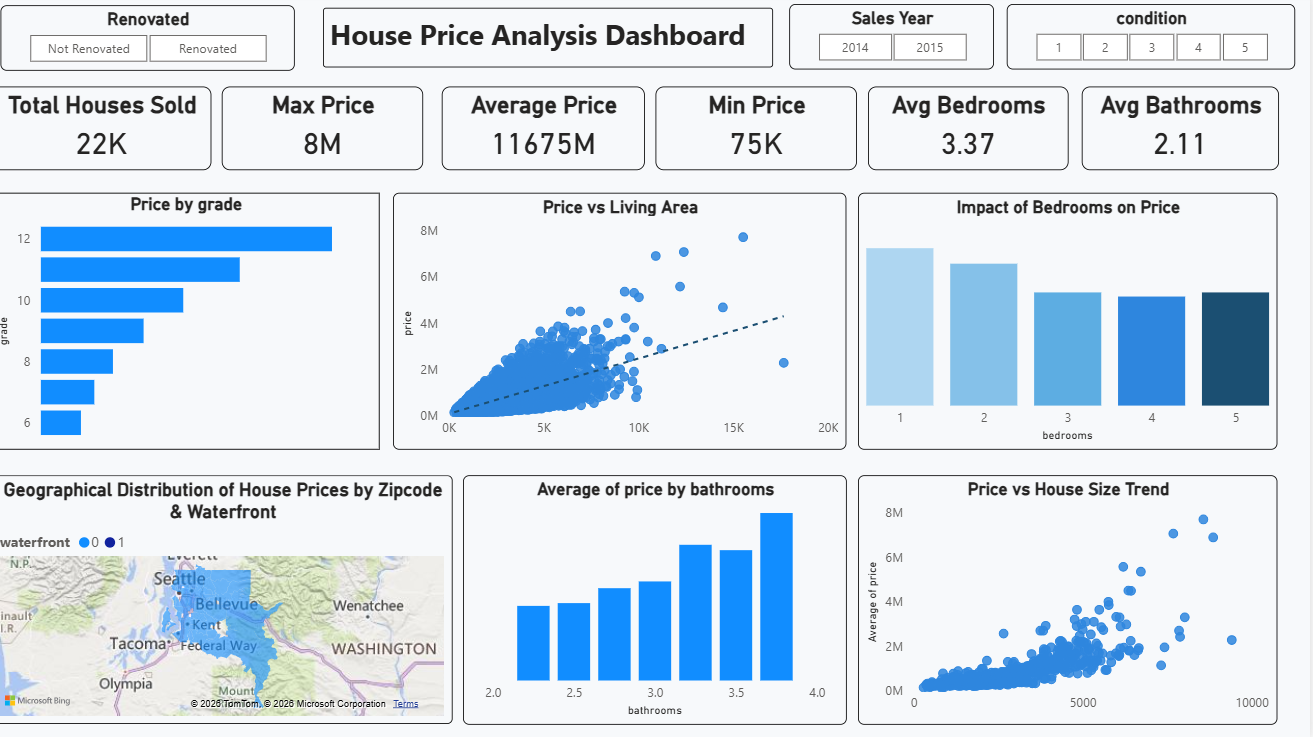

The dashboard page shown, as its layout file describes it:
{"tool":"powerbi","page":{"name":"Page 1","canvas":[1280,720],"ordinal":0},"visuals":[{"type":"card","title":"Total Houses Sold","fields":{"Values":["KC House Dataset.count of house"]},"box":[8.7,89.5,212.1,80.8],"z":0},{"type":"card","title":"Average Price","fields":{"Values":["Sum(KC House Dataset.Avg price)"]},"box":[442.9,89.5,196.2,80.8],"z":1000},{"type":"card","title":"Max Price","fields":{"Values":["KC House Dataset.Max price"]},"box":[230.8,89.5,194.8,80.8],"z":2000},{"type":"card","title":"Min Price","fields":{"Values":["KC House Dataset.min price"]},"box":[649.2,89.5,194.8,80.8],"z":3000},{"type":"card","title":"Avg Bedrooms","fields":{"Values":["KC House Dataset.avg badrooms"]},"box":[854.8,89.3,193.2,80.7],"z":4000},{"type":"card","title":"Avg Bathrooms","fields":{"Values":["KC House Dataset.Avg bathrooms"]},"box":[1060.4,89.5,190.4,80.8],"z":5000},{"type":"scatterChart","title":"Price vs Living Area","fields":{"Y":["KC House Dataset.price"],"X":["KC House Dataset.Total House Area"]},"box":[396.2,192,437.8,248.2],"z":6000},{"type":"filledMap","title":"Geographical Distribution of House Prices by Zipcode & Waterfront","fields":{"Y":["Avg(KC House Dataset.lat)"],"X":["Avg(KC House Dataset.long)"],"Category":["KC House Dataset.zipcode"],"Series":["KC House Dataset.waterfront"]},"box":[8.5,465.1,445.2,240.4],"z":7000},{"type":"clusteredColumnChart","title":"Impact of Bedrooms on Price","fields":{"Y":["KC House Dataset.Price per Sqft"],"Category":["KC House Dataset.bedrooms"]},"box":[845,192,404.8,248.2],"z":8000},{"type":"barChart","title":"Price by grade","fields":{"Category":["KC House Dataset.grade"],"Y":["Avg(KC House Dataset.price)"]},"box":[8.6,192,374.2,248.2],"z":9000},{"type":"slicer","title":"condition","fields":{"Values":["KC House Dataset.condition"]},"box":[988.3,10.1,278.5,63.5],"z":10000},{"type":"clusteredColumnChart","fields":{"Y":["Avg(KC House Dataset.price)"],"Category":["KC House Dataset.bathrooms"]},"box":[463.5,464.7,370.5,240.9],"z":11000},{"type":"slicer","title":"Sales Year","fields":{"Values":["KC House Dataset.sale_year"]},"box":[777.6,10.1,197.7,63.5],"z":13000},{"type":"textbox","box":[327.7,13.5,434.1,57.5],"z":14000},{"type":"scatterChart","title":"Price vs House Size Trend","fields":{"Y":["Avg(KC House Dataset.price)"],"X":["KC House Dataset.sqft_above"]},"box":[845,465,405,241],"z":14001},{"type":"slicer","title":"Renovated","fields":{"Values":["KC House Dataset.Renovated"]},"box":[17.1,11,283.7,63.6],"z":14002}]}

Visuals, with their boxes in screenshot pixels (x1, y1, x2, y2), scaled from the page's 1280x720 canvas onto the 1313x737 screenshot:
"Total Houses Sold" card: region(9, 92, 226, 174)
"Average Price" card: region(454, 92, 656, 174)
"Max Price" card: region(237, 92, 437, 174)
"Min Price" card: region(666, 92, 866, 174)
"Avg Bedrooms" card: region(877, 91, 1075, 174)
"Avg Bathrooms" card: region(1088, 92, 1283, 174)
"Price vs Living Area" scatterChart: region(406, 197, 856, 451)
"Geographical Distribution of House Prices by Zipcode & Waterfront" filledMap: region(9, 476, 465, 722)
"Impact of Bedrooms on Price" clusteredColumnChart: region(867, 197, 1282, 451)
"Price by grade" barChart: region(9, 197, 393, 451)
"condition" slicer: region(1014, 10, 1299, 75)
clusteredColumnChart - Avg(KC House Dataset.price) x KC House Dataset.bathrooms: region(475, 476, 856, 722)
"Sales Year" slicer: region(798, 10, 1000, 75)
textbox: region(336, 14, 781, 73)
"Price vs House Size Trend" scatterChart: region(867, 476, 1282, 723)
"Renovated" slicer: region(18, 11, 309, 76)
